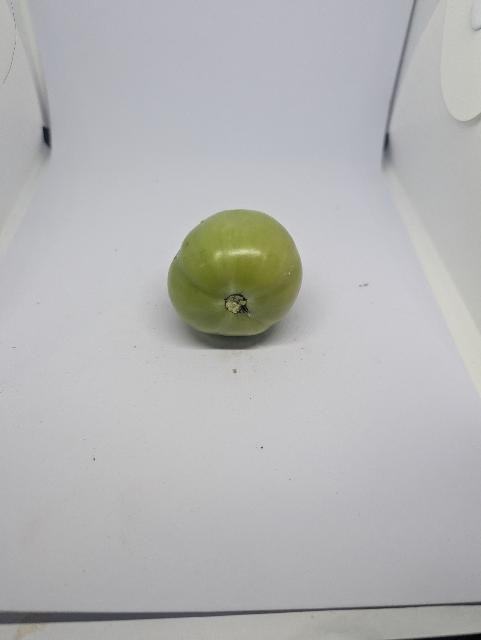green: (154, 197, 322, 358)
